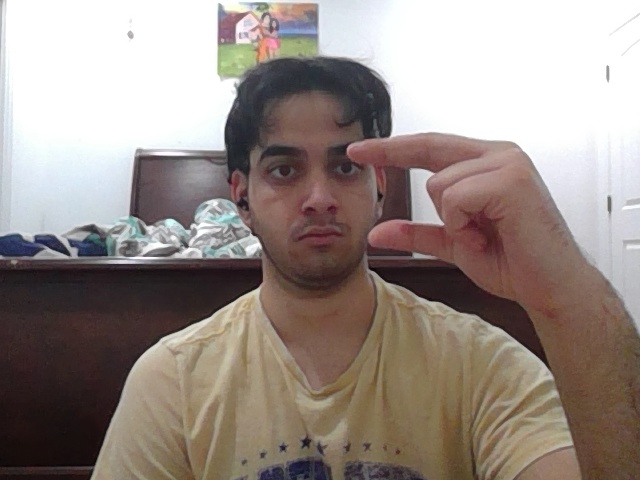No: (347, 131, 610, 315)
